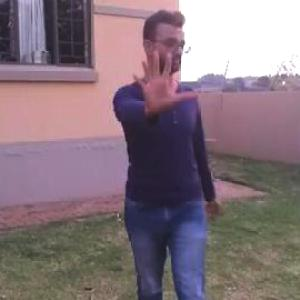follow_hand: (128, 44, 199, 116)
